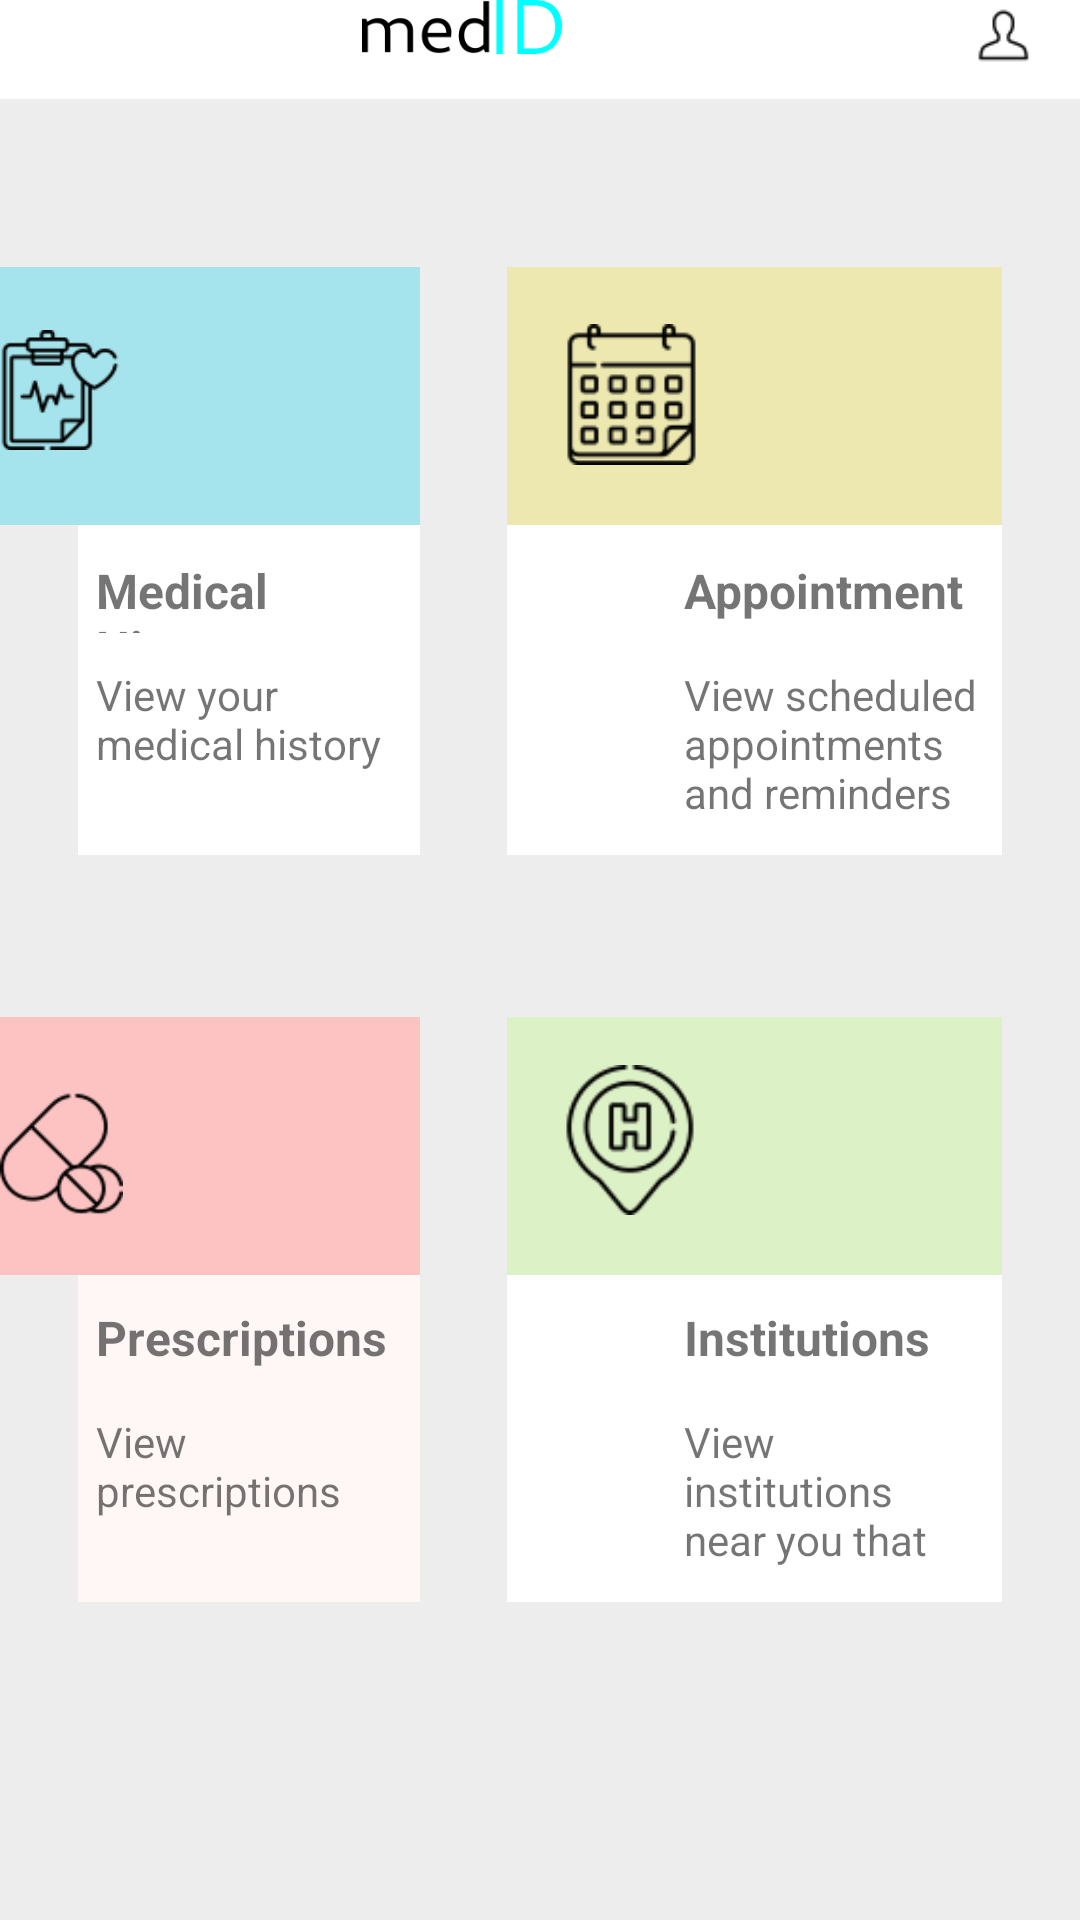

Icons on this 1080 x 1920 Android screen, each with the point to tap as (x=x, y=y):
appts: (x=631, y=394)
locations: (x=630, y=1140)
medhistory: (x=60, y=390)
pills: (x=61, y=1153)
usr: (x=1003, y=35)
